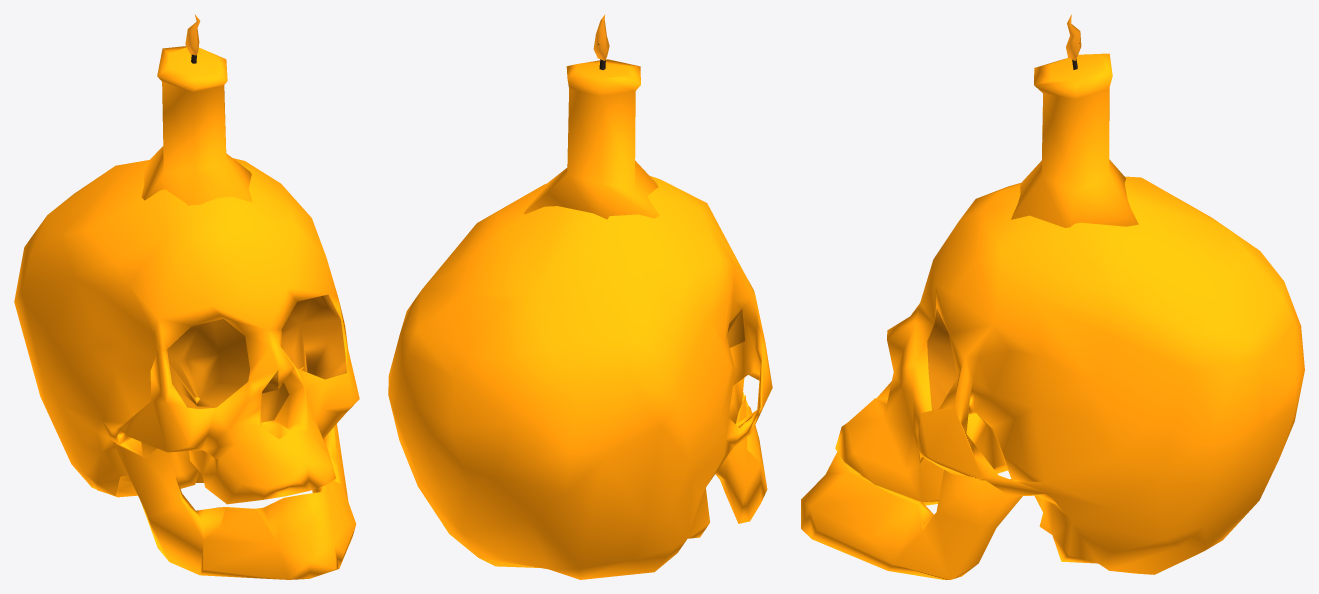
File: CandleSkullShapeB.014.glb
3 views of the same model, side by side, from view 1: azimuth 30°, elevation 25°; view 2: azimuth 150°, elevation 25°; view 3: azimuth 270°, elevation 25° (orthographic). The views are drawn at different scales.
Parts seen in each view (by area): view 1: CandleSkullShapeB.014; view 2: CandleSkullShapeB.014; view 3: CandleSkullShapeB.014.
Boxes of the visible parts, left/top/right/bottom form: CandleSkullShapeB.014: left=14, top=14, right=359, bottom=579; CandleSkullShapeB.014: left=388, top=14, right=772, bottom=579; CandleSkullShapeB.014: left=801, top=14, right=1304, bottom=579.
Bounding box in the file's own units: 0.2005 × 0.3649 × 0.3132.
2 materials, 2 textured.
